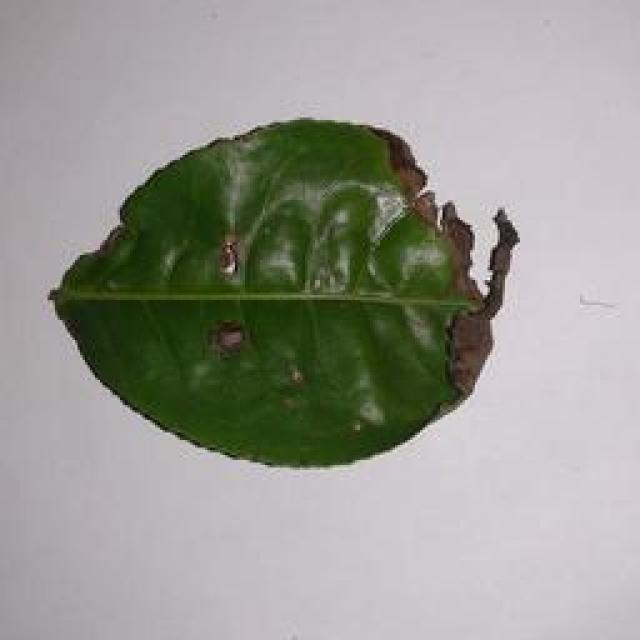Brown Blight: (51, 107, 536, 478)
